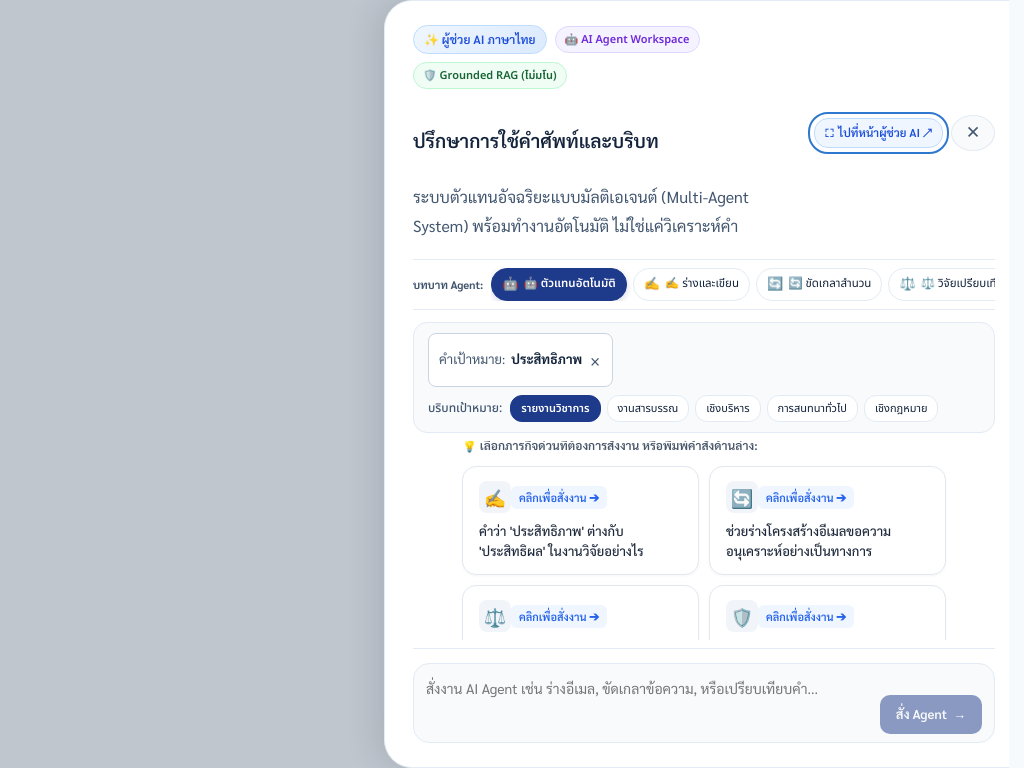
Test: Task 2: AIAssistantDrawer Component (Grounded RAG Assistant) › streams response from /api/v1/ai/chat/stream and renders grounded evidence and confidence
(page scrolled)
Click a quick prompt button
Click the text "คำว่า 'ประสิทธิภาพ' ต่างกับ 'ประสิทธิผล' ในงานวิจัยอย่างไร".
click(561, 541)  # box [479,522,644,559]
(page scrolled)
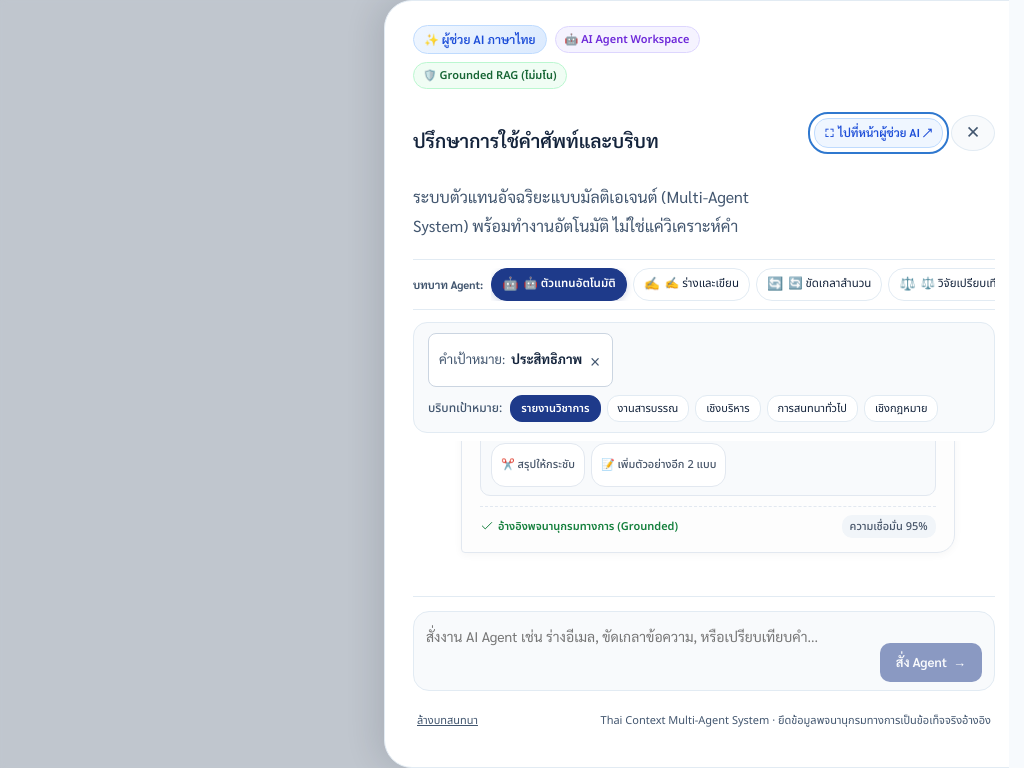
Expected: the text "อ้างอิงพจนานุกรมทางการ (Grounded)" is shown, [498,516,678,536]
Expected: the text "ความเชื่อมั่น 95%" is shown, [842,514,936,538]
